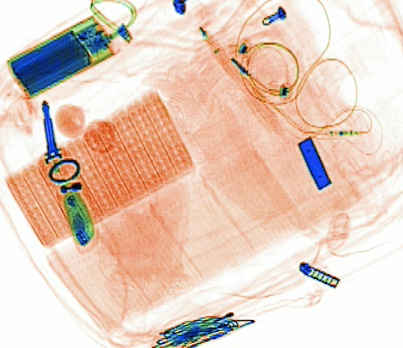powerbank: (5, 10, 121, 98)
